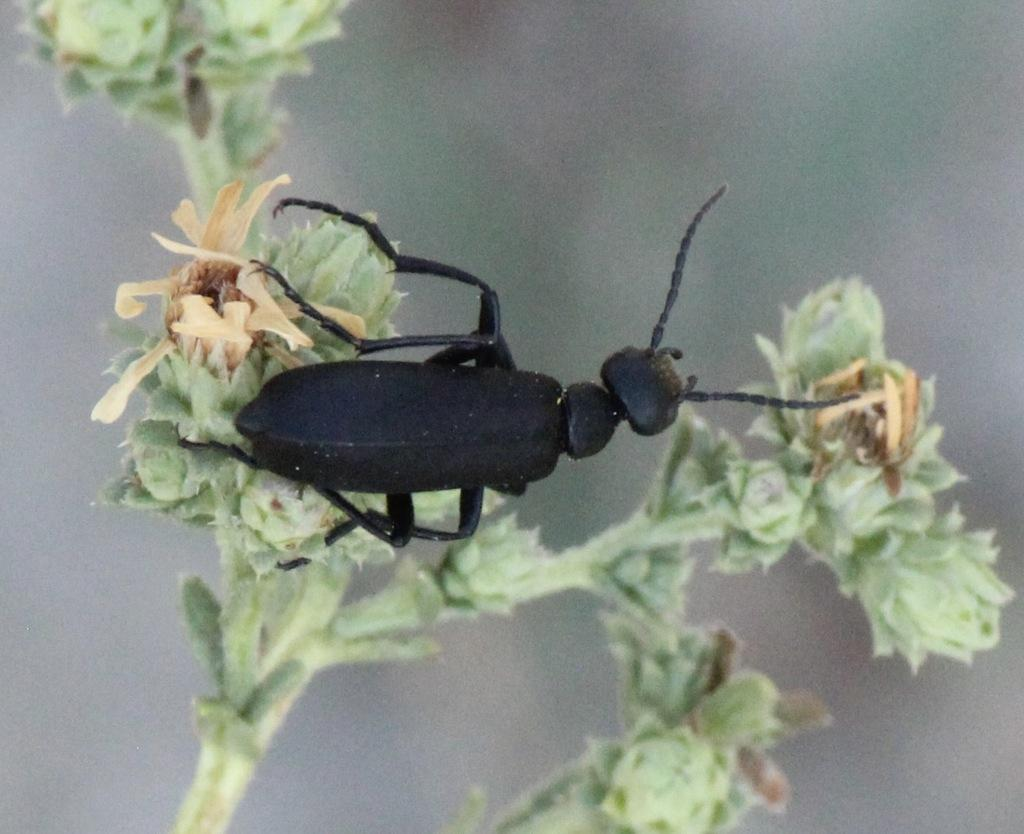blister_beetle: (112, 126, 953, 639)
